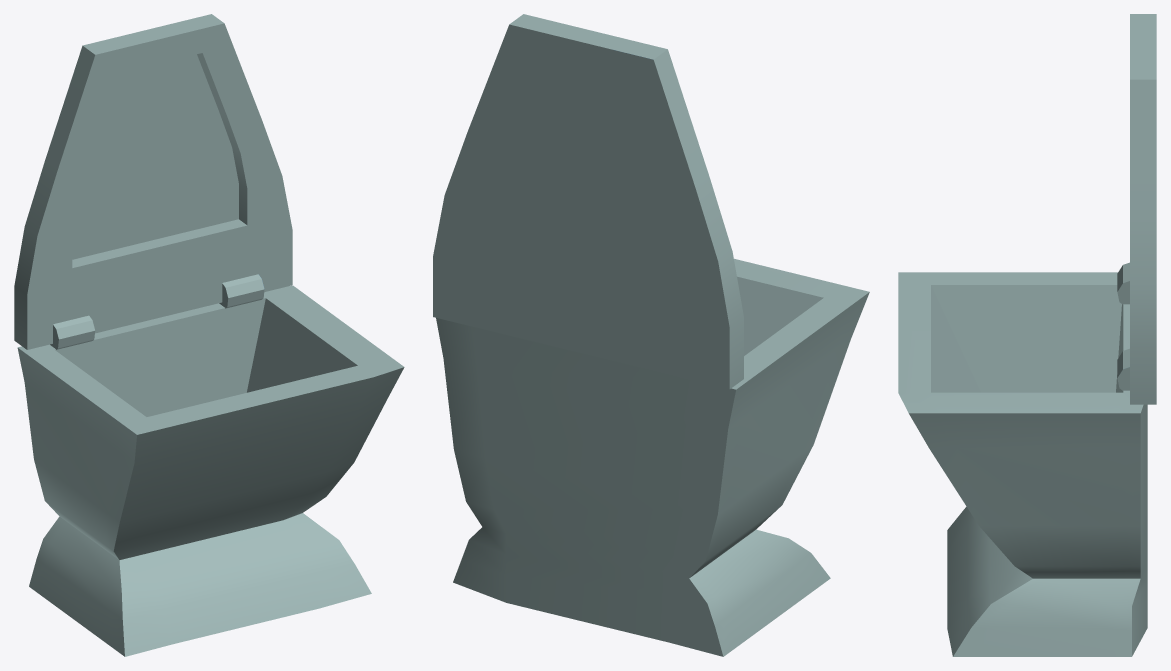
File: Toilet_Model.fbx
3 renders of one model, left to right at view 1: azimuth 30°, elevation 25°; view 2: azimuth 150°, elevation 25°; view 3: azimuth 270°, elevation 25°, orthographic. The views are drawn at different scales.
Parts seen in each view (by area): view 1: gabinetto; view 2: gabinetto; view 3: gabinetto.
Part boxes in pixels (x1,y1,x2,y2): gabinetto: (14,14,404,656); gabinetto: (433,14,869,656); gabinetto: (898,14,1156,656).
Size of the model in its own units: 0.0462 by 0.0848 by 0.0364.
1 material, 1 textured.
